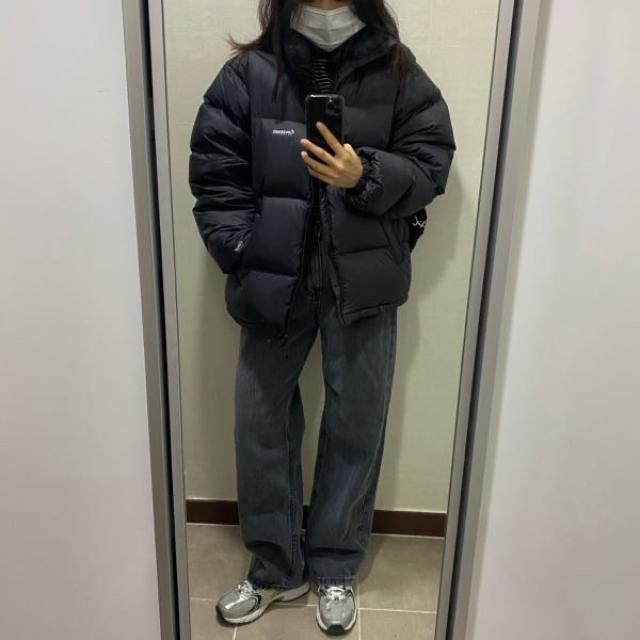denimpants: (232, 236, 394, 589)
padding: (190, 21, 460, 335)
